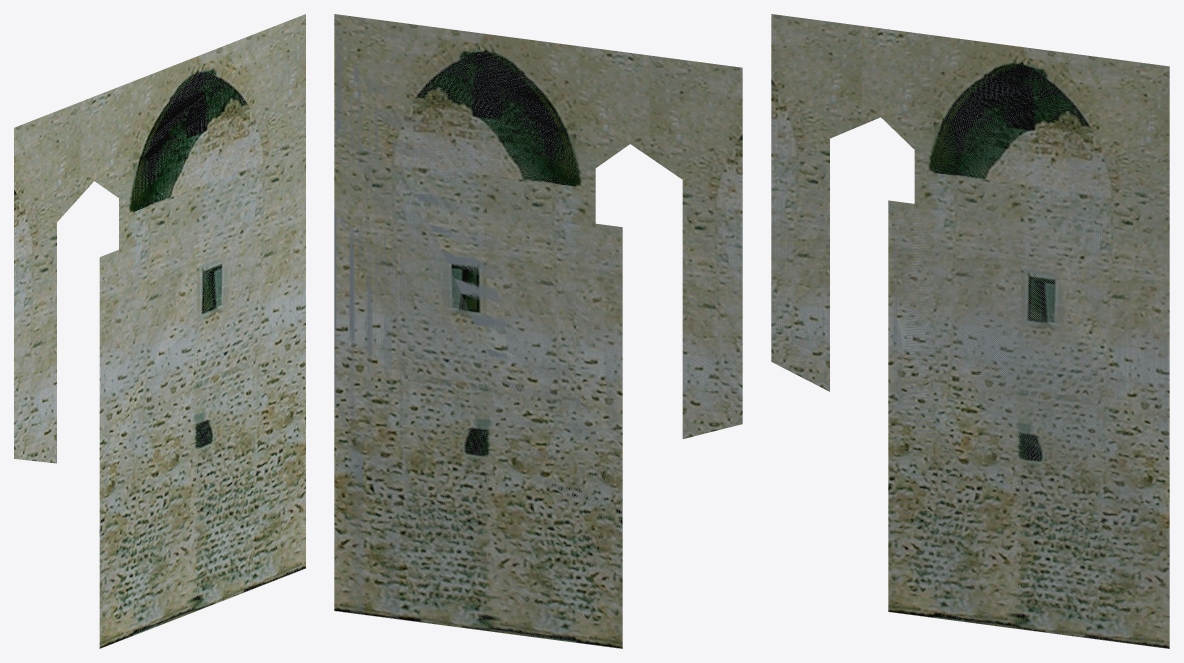
File: 西庸城堡611.dae
3 views of the same model, side by side, from view 1: azimuth 30°, elevation 25°; view 2: azimuth 150°, elevation 25°; view 3: azimuth 330°, elevation 25° (orthographic). The views are drawn at different scales.
Parts seen in each view (by area): view 1: SketchUp; view 2: SketchUp; view 3: SketchUp.
Part boxes in pixels (x1,y1,x2,y2): SketchUp: (14, 14, 305, 648); SketchUp: (334, 14, 742, 648); SketchUp: (771, 14, 1169, 648).
Size of the model in its own units: 508 by 115 by 803.
Materials: 2 (1 with a texture image).
